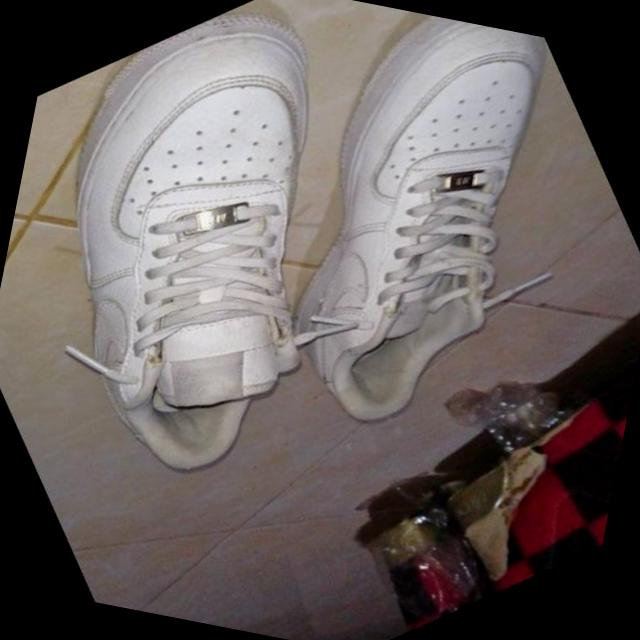nike_fake_airforce: (0, 0, 510, 545), (110, 0, 640, 513)
